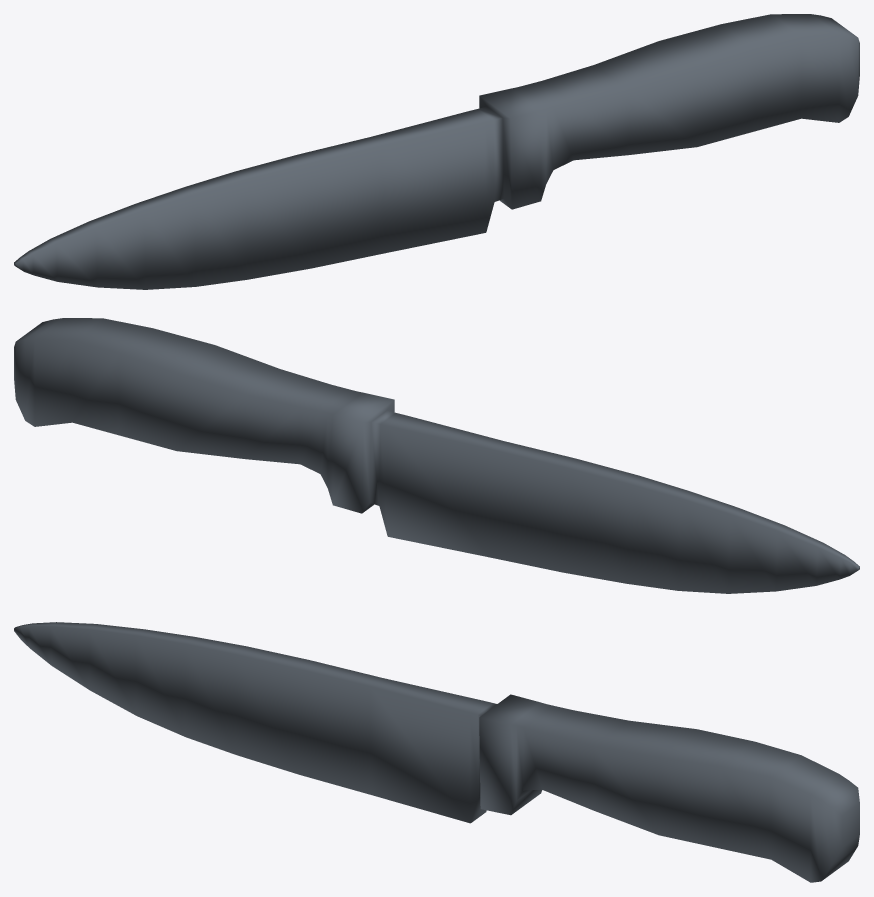
Rendered from mdl_knive02.fbx.
The picture shows the model from 3 angles, top to bottom: view 1: azimuth 30°, elevation 25°; view 2: azimuth 150°, elevation 25°; view 3: azimuth 330°, elevation 25°; orthographic projection.
Visible parts, largest first — view 1: sharp_knife_l; view 2: sharp_knife_l; view 3: sharp_knife_l.
Part boxes in pixels (box(x1,y1,x2,y2)): sharp_knife_l: box(14, 14, 859, 289); sharp_knife_l: box(14, 318, 859, 593); sharp_knife_l: box(14, 622, 859, 882).
Size of the model in its own units: 347 by 50.3 by 27.64.
